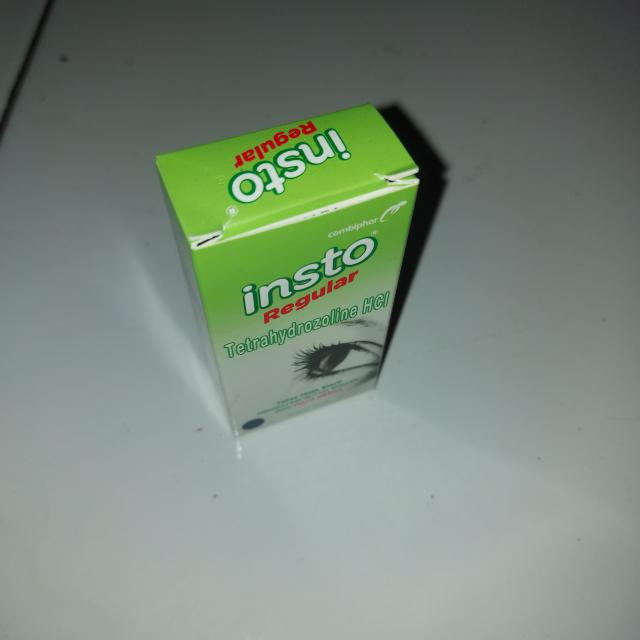Organik: (146, 90, 428, 438)
